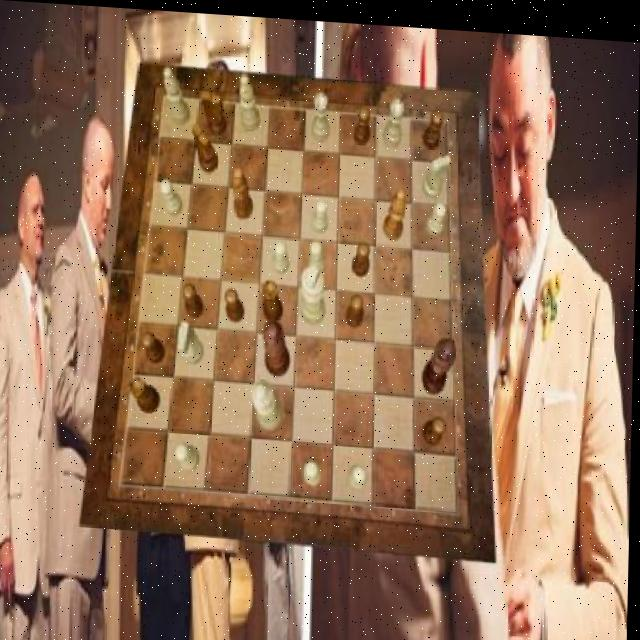bishop: (384, 182, 408, 235), (233, 163, 255, 215)
black-bishop: (423, 330, 457, 390)
black-king: (193, 121, 221, 172), (201, 89, 228, 133)
black-knight: (424, 104, 445, 144), (184, 279, 207, 315), (143, 329, 167, 363), (425, 411, 449, 441), (226, 286, 246, 321), (355, 102, 372, 141), (353, 237, 371, 273), (347, 289, 365, 324)
black-pawn: (264, 316, 293, 375)
black-queen: (130, 373, 163, 411), (264, 275, 285, 319)
black-rook: (164, 64, 193, 123), (239, 71, 263, 128)
white-bishop: (301, 259, 328, 320)
white-king: (423, 147, 452, 194), (178, 319, 205, 363)
white-knight: (161, 177, 185, 214), (427, 195, 448, 230), (178, 441, 203, 469), (273, 236, 291, 271), (313, 195, 331, 230), (310, 235, 327, 271), (350, 460, 370, 487), (304, 455, 324, 481)
white-pawn: (251, 375, 285, 429)
white-queen: (384, 94, 405, 144), (312, 87, 330, 137)
